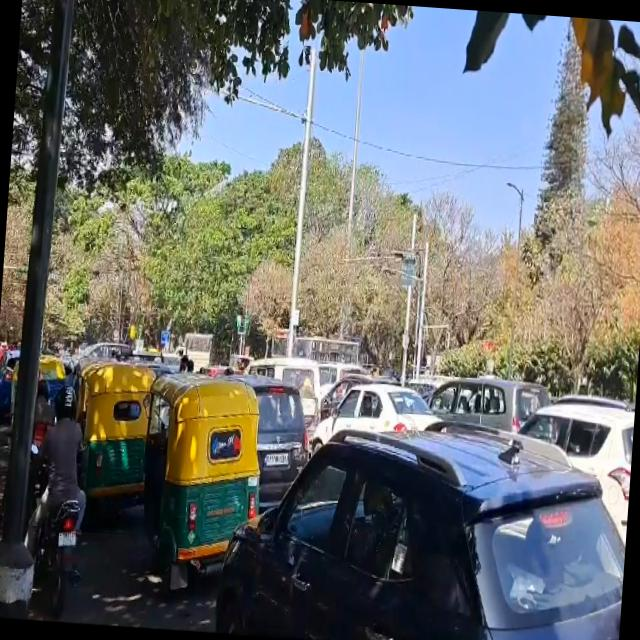cars: (215, 416, 633, 640), (518, 397, 636, 535), (236, 378, 315, 520), (316, 380, 447, 459), (434, 375, 549, 436)
